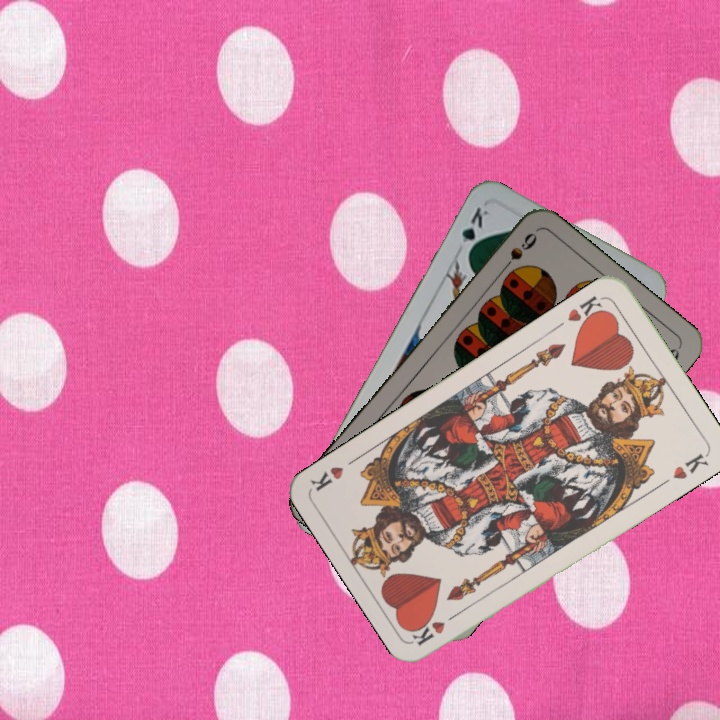GK: (455, 202, 491, 259)
HK: (409, 606, 464, 648), (563, 292, 608, 330)
S9: (495, 228, 540, 277)
